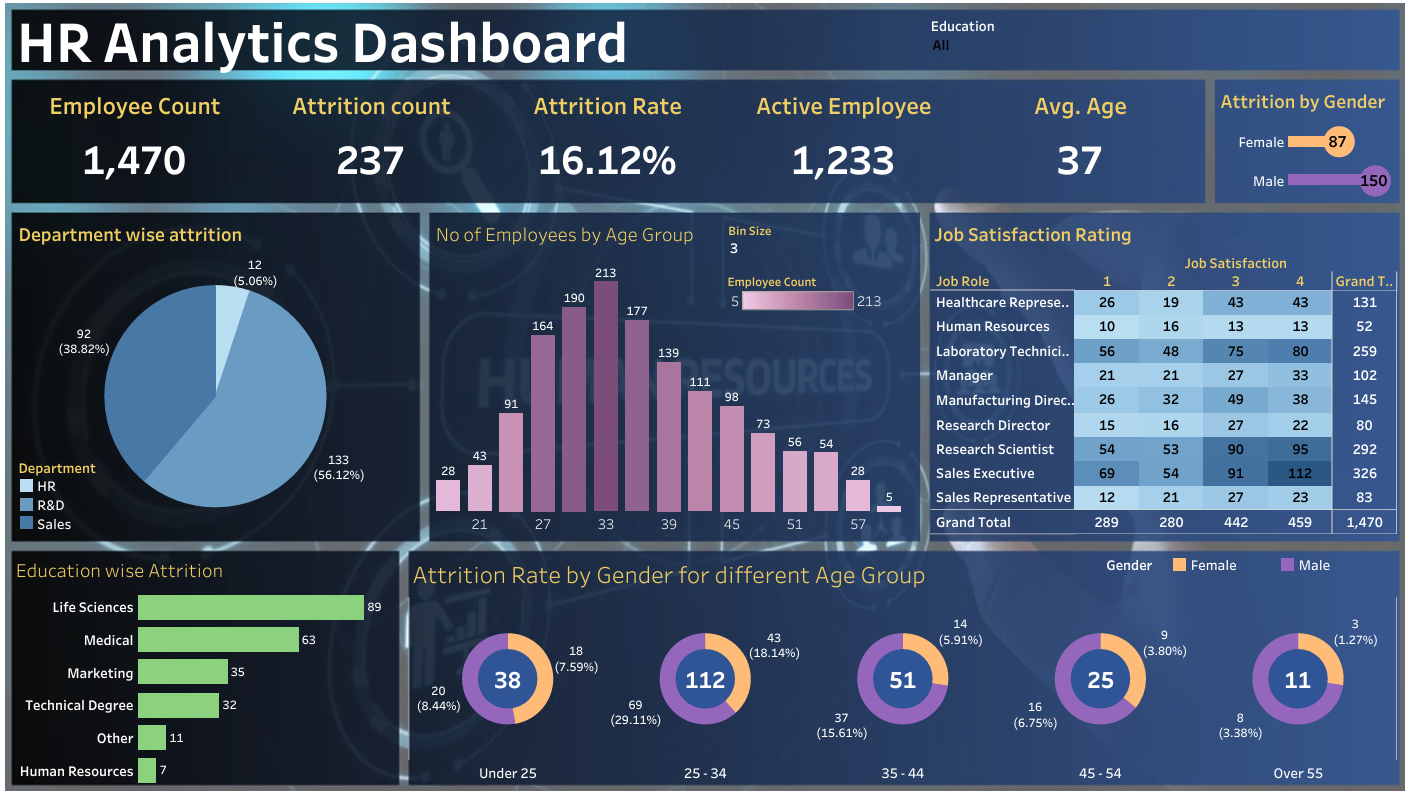

The dashboard page shown, as its layout file describes it:
{"tool":"tableau","page":{"name":"HR Analytics Dasboard","canvas":[1580,900],"ordinal":0},"visuals":[{"type":"image","param":"C:/Users/chiku/Downloads/HR background.pptx.png","box":[8,8,1564,884]},{"type":"filter","title":"Attrition Rate by Gender for different Age Group","param":"[federated.1qdnt860w6jnwp15rt1zm1drh48u].[none:Education:nk]","box":[1040,21,245,62]},{"type":"text","box":[21,22,702,60]},{"type":"worksheet","title":"Attrition by Gender","mark":"Automatic","rows":["Gender"],"cols":["Calculation_2409913421627392","Calculation_2409913421627392"],"box":[1358,100,198,130]},{"type":"worksheet","title":"KPI","mark":"Automatic","box":[24,101,1314,126]},{"type":"worksheet","title":"No of Employees by Age Group","mark":"Automatic","rows":["Employee Count"],"cols":["Age (bin)"],"box":[486,247,526,354]},{"type":"worksheet","title":"Job Satisfaction Rating","mark":"Square","rows":["Job Role"],"cols":["Job Satisfaction"],"box":[1040,247,519,355]},{"type":"worksheet","title":"Department wise attrition","mark":"Pie","box":[22,248,446,357]},{"type":"parameter","param":"[Parameters].[Parameter 1]","box":[815,254,208,45]},{"type":"legend","title":"No of Employees by Age Group","param":"[federated.1qdnt860w6jnwp15rt1zm1drh48u].[sum:Employee Count:qk]","box":[814,308,176,50]},{"type":"legend","title":"Department wise attrition","param":"[federated.1qdnt860w6jnwp15rt1zm1drh48u].[none:Department:nk]","box":[25,515,119,85]},{"type":"worksheet","title":"Education wise Attrition","mark":"Automatic","rows":["Education Field"],"cols":["Calculation_2409913421627392"],"box":[19,621,428,261]},{"type":"worksheet","title":"Attrition Rate by Gender for different Age Group","mark":"Pie","rows":["Calculation_2409913773084676","Calculation_2409913773199366"],"cols":["CF_age band"],"box":[460,622,1099,256]},{"type":"legend","title":"Attrition Rate by Gender for different Age Group","param":"[federated.1qdnt860w6jnwp15rt1zm1drh48u].[none:Gender:nk]","box":[1235,625,322,25]}]}

Visuals, with their boxes in screenshot pixels (x1, y1, x2, y2), scaled from the page's 1580x900 canvas onto the 1407x791 screenshot:
image: 7/7/1400/784
"Attrition Rate by Gender for different Age Group" filter: 926/18/1144/73
text: 19/19/644/72
"Attrition by Gender" worksheet: 1209/88/1386/202
"KPI" worksheet: 21/89/1191/200
"No of Employees by Age Group" worksheet: 433/217/901/528
"Job Satisfaction Rating" worksheet (Square marks): 926/217/1388/529
"Department wise attrition" worksheet (Pie marks): 20/218/417/532
parameter: 726/223/911/263
"No of Employees by Age Group" legend: 725/271/882/315
"Department wise attrition" legend: 22/453/128/527
"Education wise Attrition" worksheet: 17/546/398/775
"Attrition Rate by Gender for different Age Group" worksheet (Pie marks): 410/547/1388/772
"Attrition Rate by Gender for different Age Group" legend: 1100/549/1387/571
